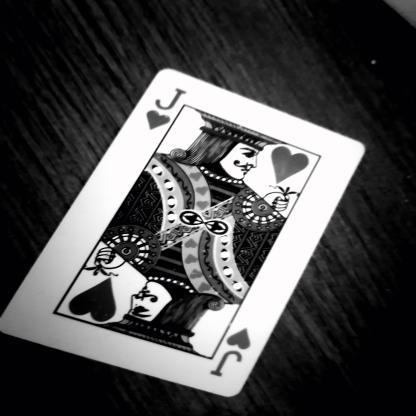JH: (134, 72, 193, 141), (202, 308, 252, 383)
